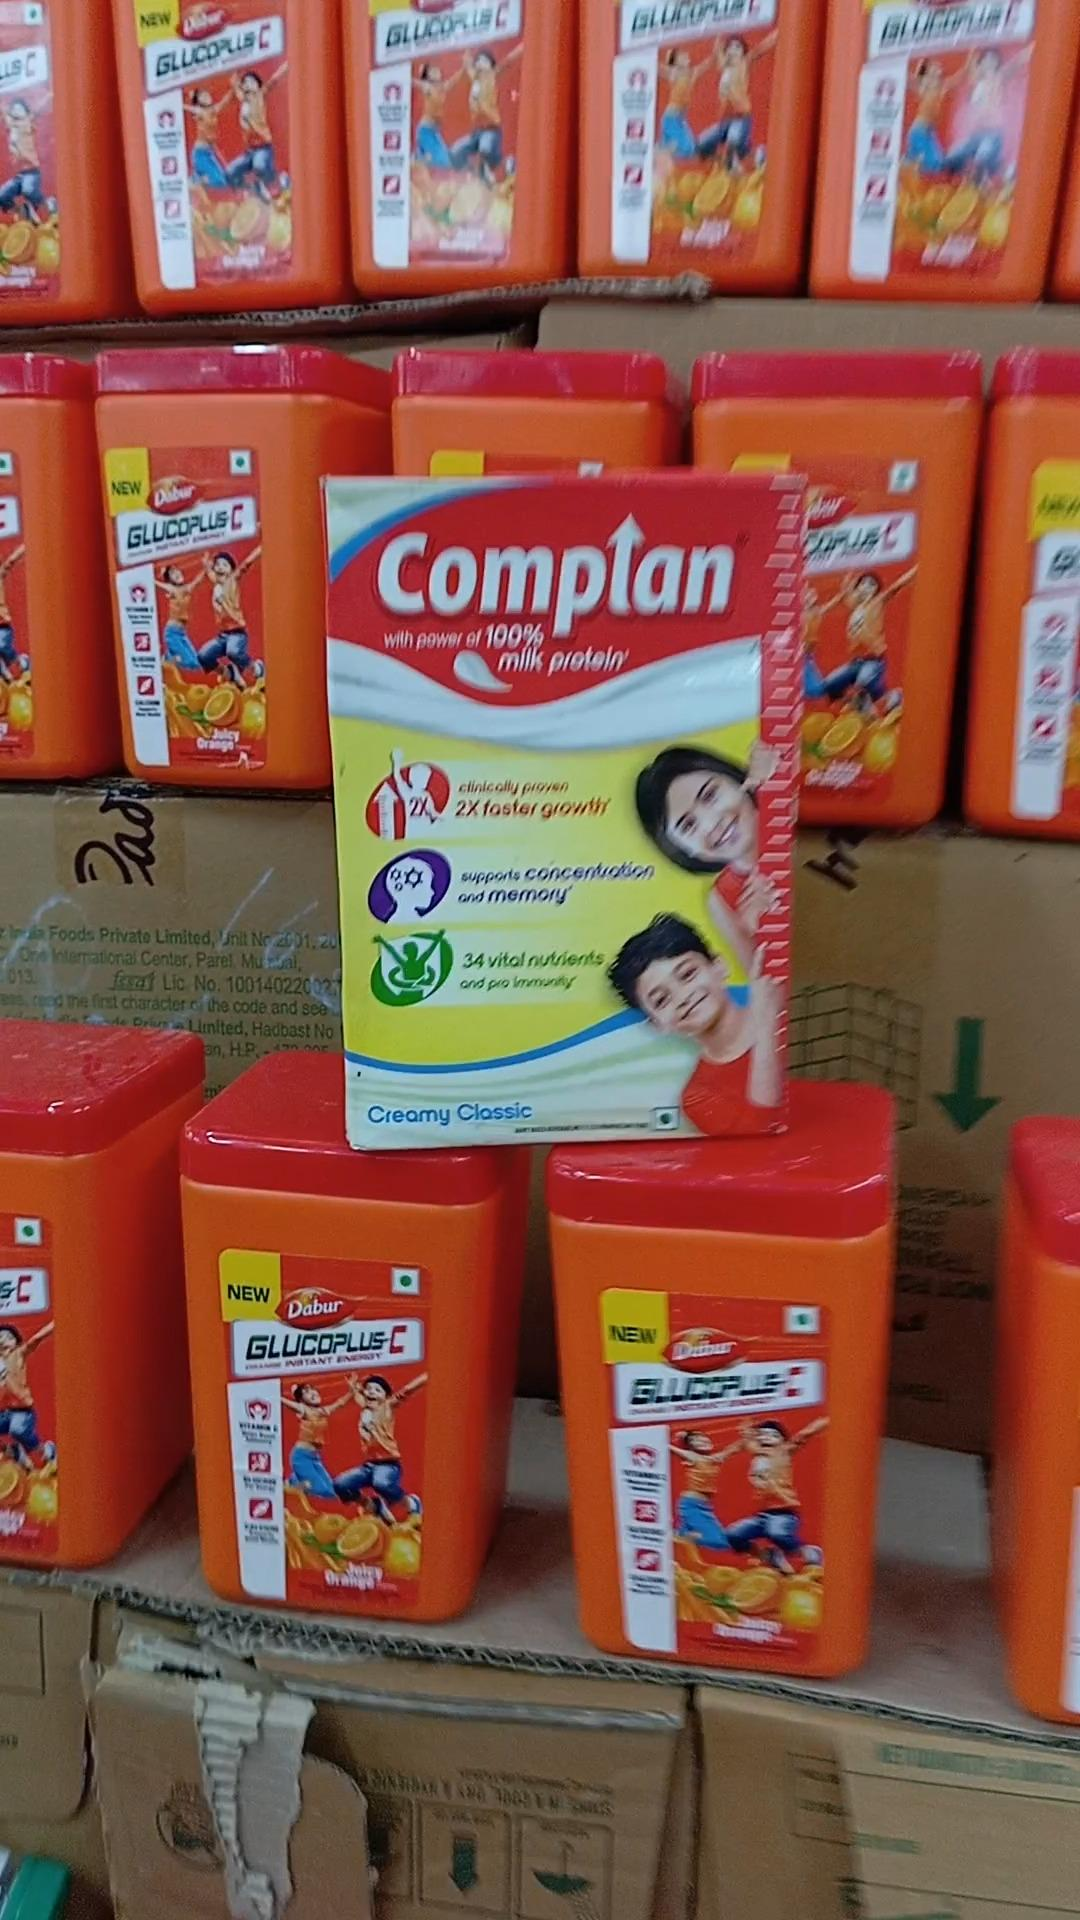COMPLAN_CREAMY_CLASSIC_500_G_PACK: (322, 475, 812, 1147)
